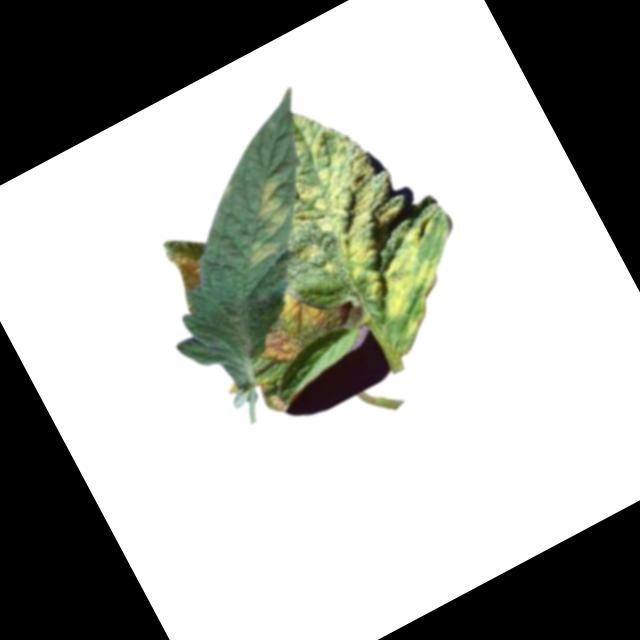Leaf_Mold: (242, 75, 494, 378), (245, 269, 363, 372), (246, 171, 295, 227), (236, 227, 292, 271), (168, 244, 211, 292)
